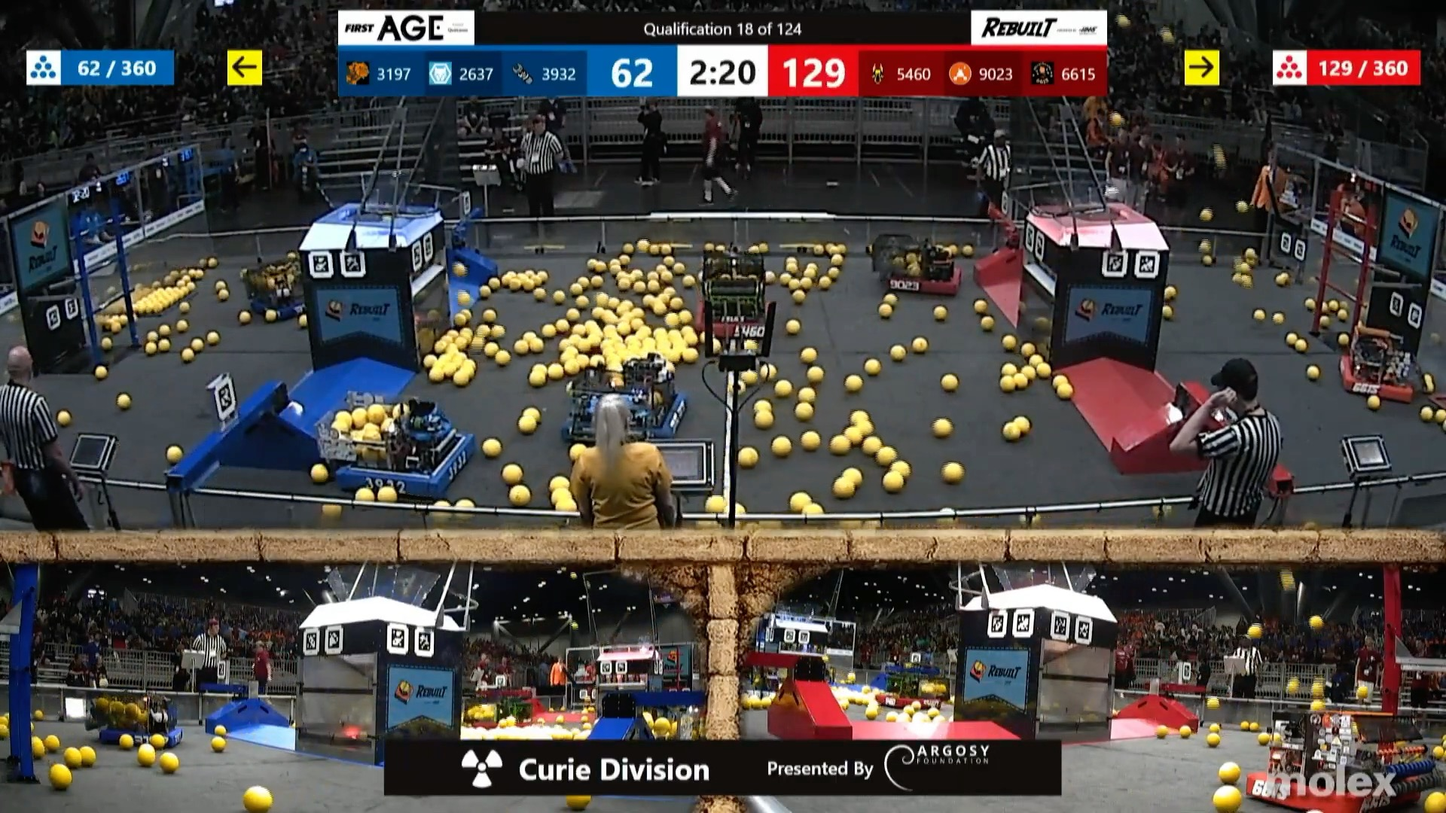bumpers: (337, 435, 487, 499), (1238, 769, 1446, 813), (1325, 349, 1427, 410), (691, 297, 779, 346), (95, 715, 194, 756), (875, 263, 972, 300), (239, 289, 332, 325)
